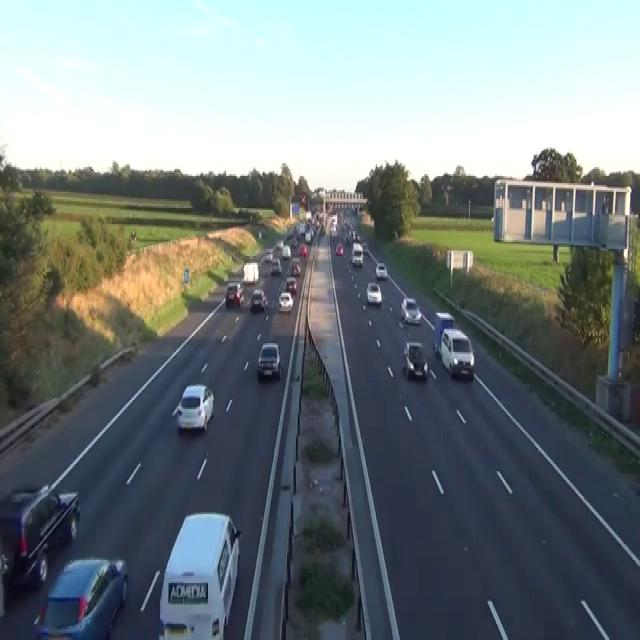Car: (158, 510, 241, 638), (0, 482, 80, 590), (32, 555, 128, 638), (171, 384, 214, 432), (440, 327, 474, 379), (403, 341, 428, 379), (257, 341, 281, 379), (400, 297, 421, 323), (225, 281, 244, 307), (250, 288, 268, 311), (366, 281, 381, 304), (278, 290, 293, 313), (351, 242, 363, 266), (375, 261, 387, 279), (270, 256, 282, 274), (285, 276, 297, 294), (289, 258, 301, 276), (297, 222, 306, 238), (281, 244, 291, 258), (273, 240, 283, 254), (351, 229, 360, 242), (304, 229, 312, 242), (335, 242, 343, 254), (299, 244, 307, 256), (265, 251, 273, 261), (362, 242, 368, 254), (300, 194, 306, 206), (130, 229, 136, 240), (291, 237, 297, 247), (276, 240, 283, 247), (258, 230, 262, 238), (490, 215, 494, 222)
Truck: (433, 311, 453, 357), (243, 261, 259, 283)
